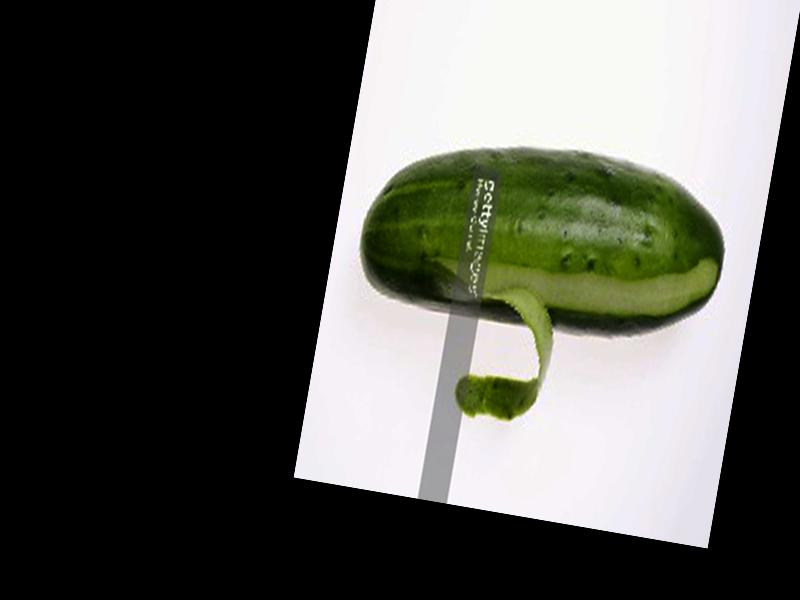Cucumber: (350, 119, 738, 361)
